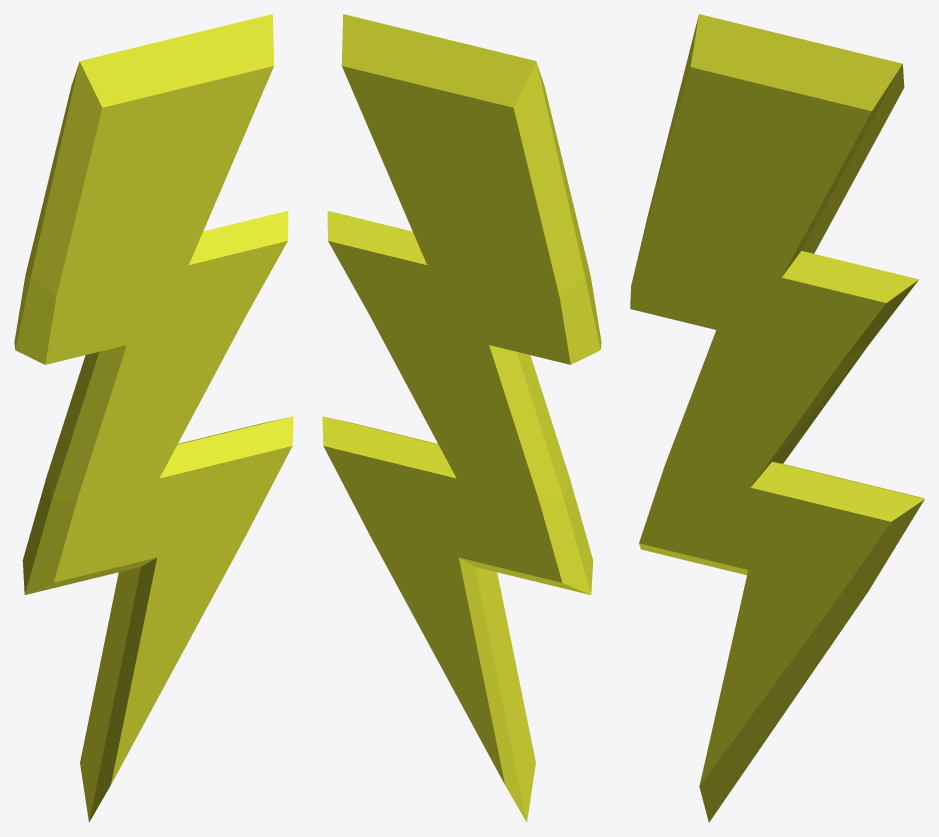
File: flashcoin.fbx
3 renders of one model, left to right at view 1: azimuth 30°, elevation 25°; view 2: azimuth 150°, elevation 25°; view 3: azimuth 330°, elevation 25°, orthographic. The views are drawn at different scales.
Parts seen in each view (by area): view 1: flashcoin; view 2: flashcoin; view 3: flashcoin.
Part boxes in pixels (bbox=[...]): flashcoin: bbox=[14, 14, 293, 822]; flashcoin: bbox=[322, 14, 601, 822]; flashcoin: bbox=[630, 14, 924, 822].
Size of the model in its own units: 0.6242 by 1.64 by 0.1197.
